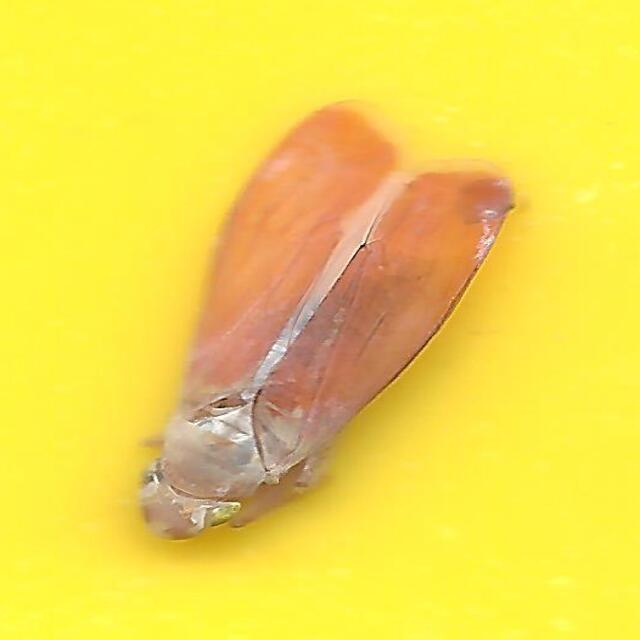Hemiptera: (122, 95, 518, 545)
